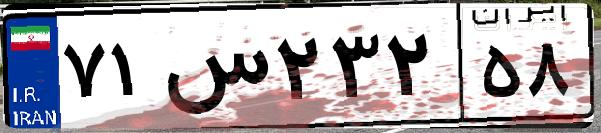1: (110, 28, 158, 98)
2: (270, 28, 330, 110), (385, 28, 445, 110)
3: (330, 28, 385, 110)
5: (475, 38, 525, 113)
7: (57, 26, 110, 100)
8: (525, 38, 570, 115)
س: (158, 20, 270, 120)
